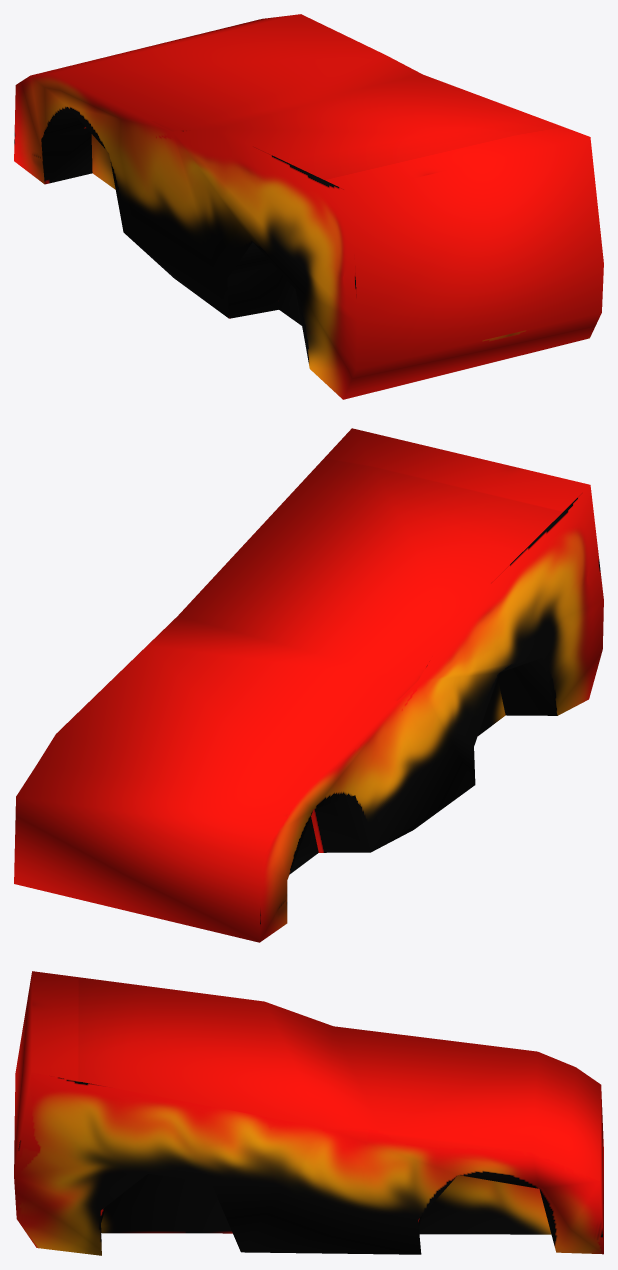
File: flame.fbx
3 renders of one model, top to bottom at view 1: azimuth 30°, elevation 25°; view 2: azimuth 150°, elevation 25°; view 3: azimuth 270°, elevation 25°, orthographic. The views are drawn at different scales.
Parts seen in each view (by area): view 1: Cube; view 2: Cube; view 3: Cube.
Part boxes in pixels (x1,y1,x2,y2): Cube: (14,14,603,399); Cube: (14,428,603,942); Cube: (14,971,603,1255).
Size of the model in its own units: 505 by 420 by 1222.
Materials: 1 (1 with a texture image).
